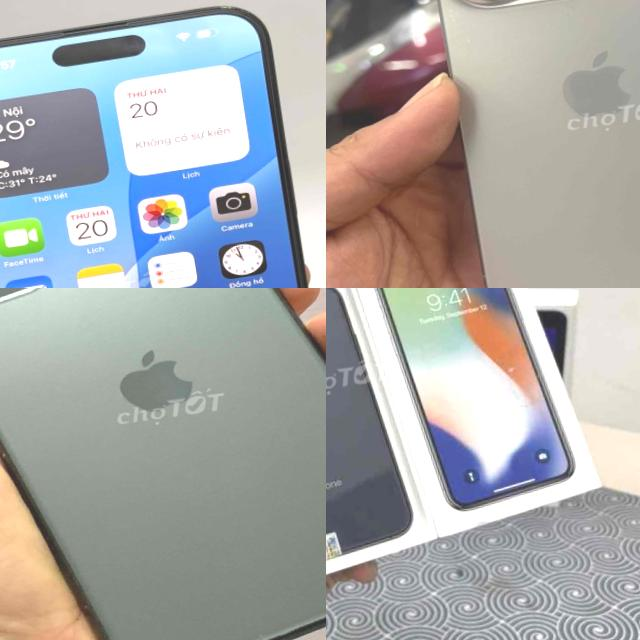gen_11: (0, 288, 326, 640)
gen_15: (0, 0, 326, 288), (398, 0, 640, 288)
gen_x_xs: (326, 288, 432, 595)
